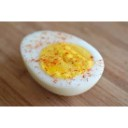begg: (20, 30, 107, 93)
